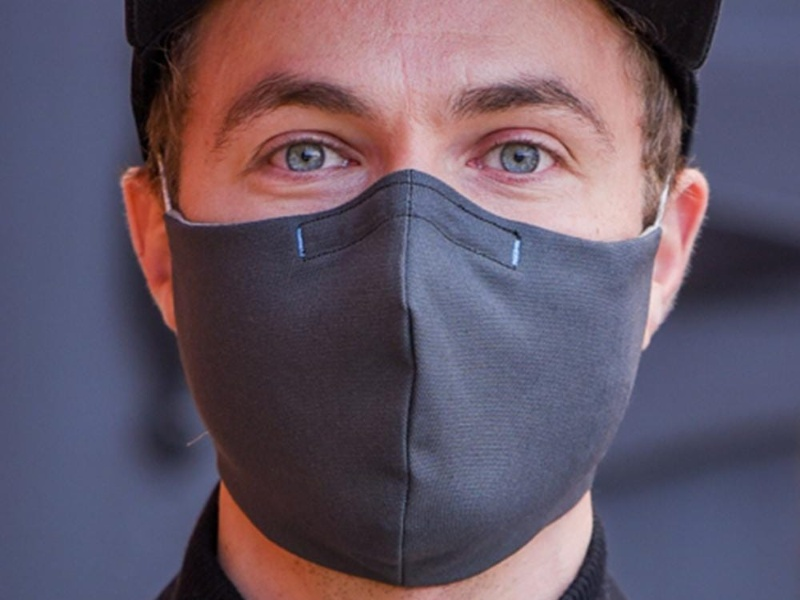mask: (163, 170, 662, 590)
